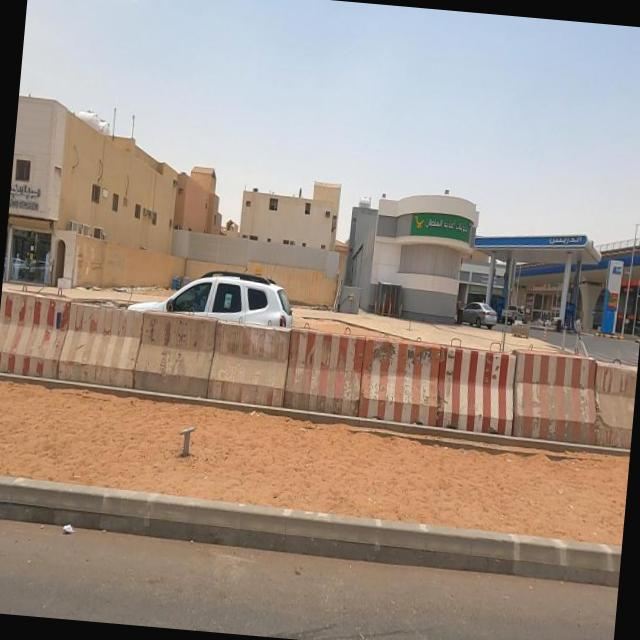debris: (43, 494, 92, 560)
